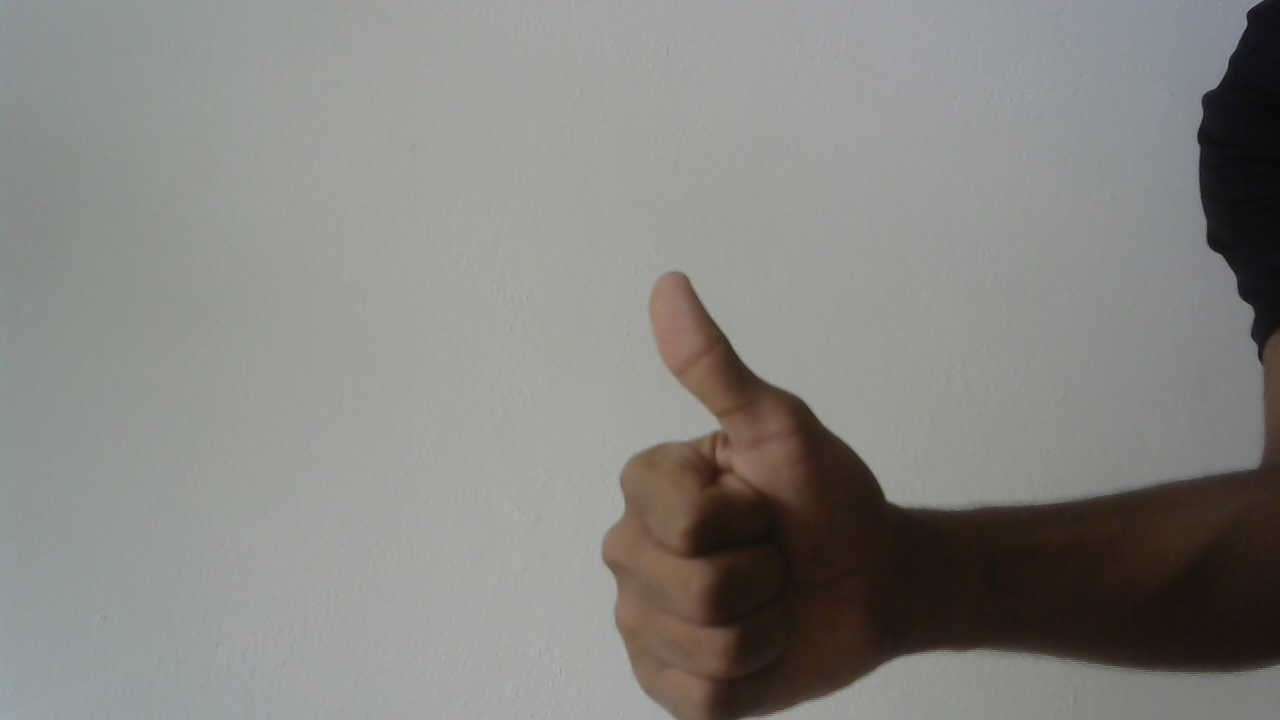thumbsup: (576, 254, 916, 720)
